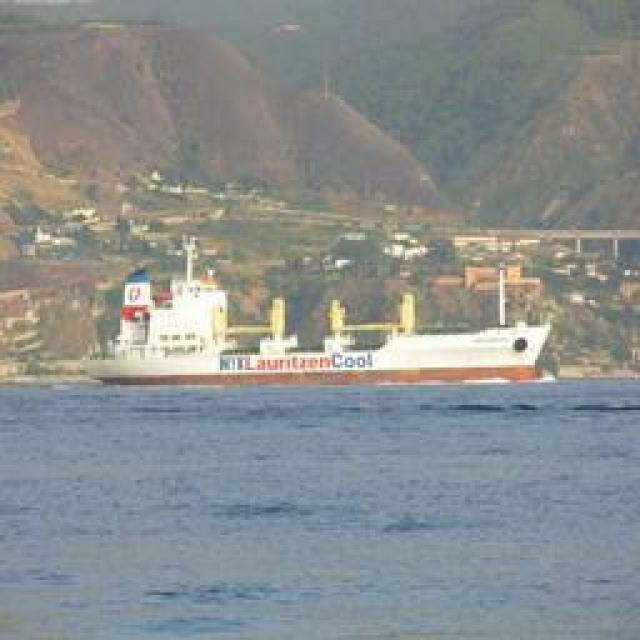ship2: (87, 237, 552, 387)
